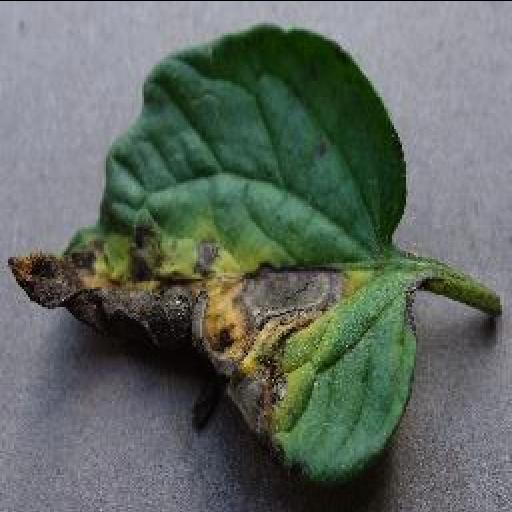disease_tomato: (10, 24, 416, 477)
